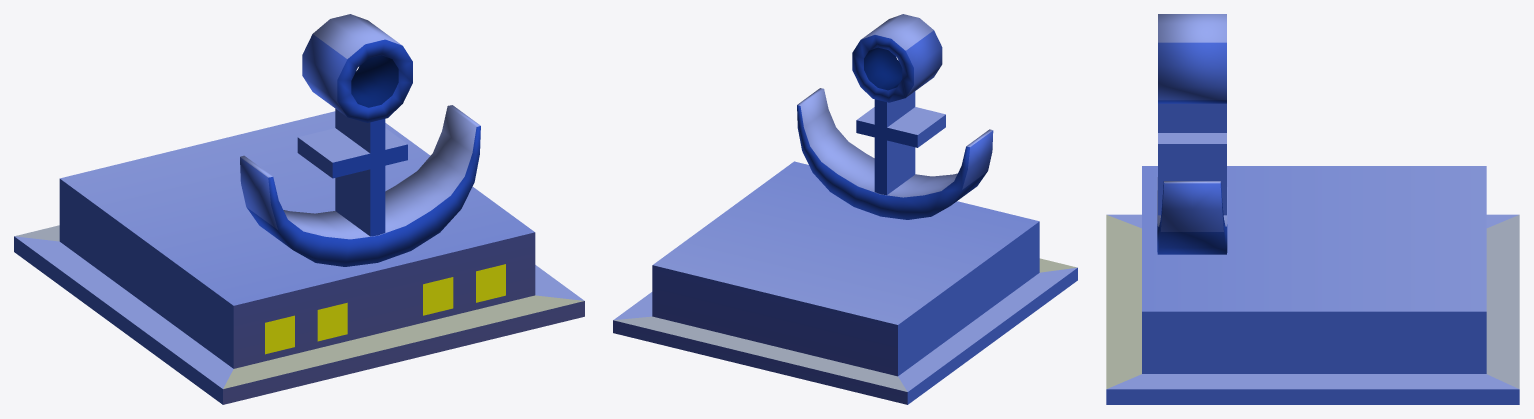
File: Port.CobaltIce.glb
3 views of the same model, side by side, from view 1: azimuth 30°, elevation 25°; view 2: azimuth 150°, elevation 25°; view 3: azimuth 270°, elevation 25° (orthographic). The views are drawn at different scales.
Visible parts, largest first — view 1: Port.CobaltIce; view 2: Port.CobaltIce; view 3: Port.CobaltIce.
Boxes of the visible parts, x1,y1,x2,y2 form: Port.CobaltIce: [14, 14, 584, 404]; Port.CobaltIce: [613, 14, 1077, 404]; Port.CobaltIce: [1106, 14, 1519, 404].
Size of the model in its own units: 2.4 by 1.9 by 2.4.
Materials: 2 (1 with a texture image).
